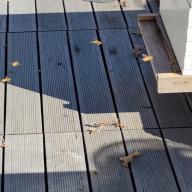Bee: (89, 35, 109, 51), (8, 58, 29, 72), (139, 51, 157, 64)
